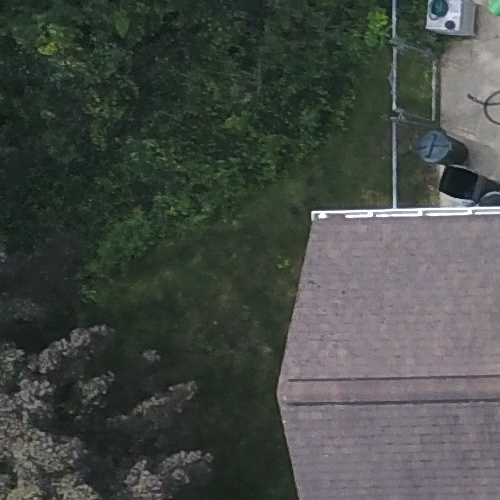trash bin: (410, 117, 480, 171), (436, 158, 500, 209)
